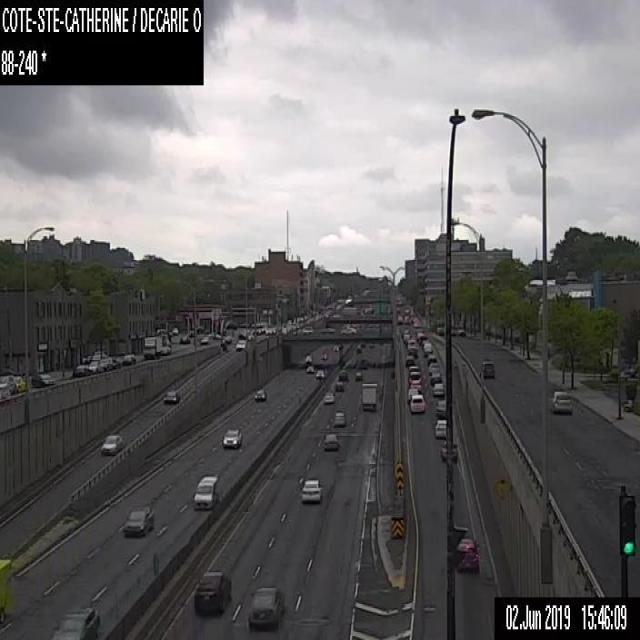vehicle: (192, 569, 231, 619), (246, 585, 284, 631), (52, 605, 102, 639), (122, 504, 154, 539), (192, 476, 218, 510), (0, 554, 12, 626), (456, 537, 480, 572), (300, 478, 323, 502), (550, 389, 572, 413), (361, 381, 377, 411), (142, 336, 162, 359), (221, 427, 241, 449), (101, 434, 122, 453), (0, 374, 16, 397), (31, 372, 54, 387), (408, 370, 422, 390), (323, 433, 338, 450), (479, 362, 494, 379), (410, 394, 424, 412), (163, 389, 179, 404), (434, 419, 445, 438), (160, 334, 170, 354), (98, 356, 112, 370), (72, 363, 88, 375), (253, 387, 266, 401), (428, 371, 442, 384), (13, 376, 25, 391), (334, 410, 346, 425), (432, 382, 444, 396), (406, 388, 417, 403), (435, 400, 445, 416), (120, 354, 136, 364), (109, 356, 121, 368), (294, 326, 312, 334), (88, 360, 99, 372), (423, 341, 432, 355), (428, 362, 439, 373), (235, 339, 246, 350), (426, 354, 436, 366), (178, 334, 190, 344), (341, 326, 356, 334), (324, 391, 334, 403), (321, 326, 335, 334), (332, 341, 342, 352), (315, 368, 325, 379), (408, 347, 418, 358), (414, 328, 425, 338), (338, 370, 348, 381), (334, 381, 344, 391), (407, 365, 420, 372), (199, 335, 209, 344), (405, 355, 414, 365), (354, 370, 362, 380), (421, 340, 429, 350), (406, 339, 414, 349), (457, 328, 465, 336), (319, 351, 326, 360), (305, 366, 314, 373), (304, 355, 312, 362), (355, 345, 361, 352), (368, 342, 374, 347), (360, 342, 364, 346)
